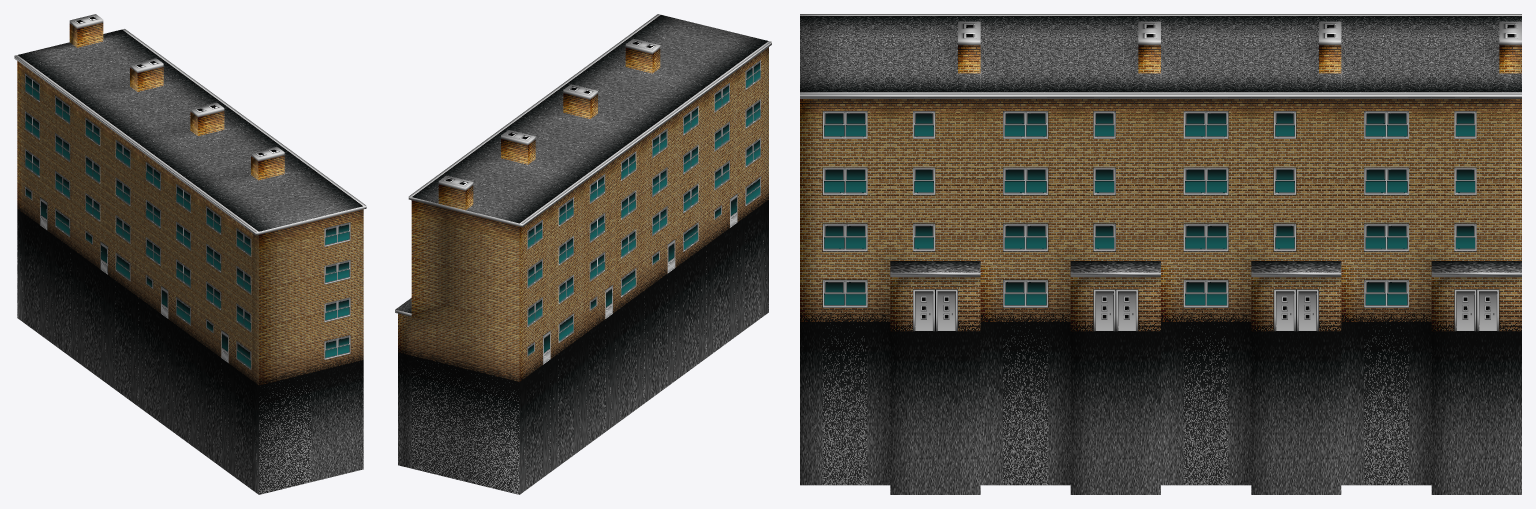
The model's file is maisonet_mod1_4b.fbx.
The picture shows the model from 3 angles, left to right: view 1: azimuth 30°, elevation 25°; view 2: azimuth 150°, elevation 25°; view 3: azimuth 270°, elevation 25°; orthographic projection. The views are drawn at different scales.
Parts seen in each view (by area): view 1: maisonet_mod1_4b; view 2: maisonet_mod1_4b; view 3: maisonet_mod1_4b.
Part boxes in pixels (<box>): maisonet_mod1_4b: <box>14,14,366,494</box>; maisonet_mod1_4b: <box>395,14,771,494</box>; maisonet_mod1_4b: <box>800,14,1521,494</box>.
Size of the model in its own units: 1062 by 2343 by 3600.
